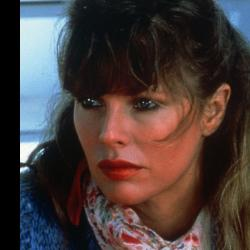face: (37, 2, 246, 219)
